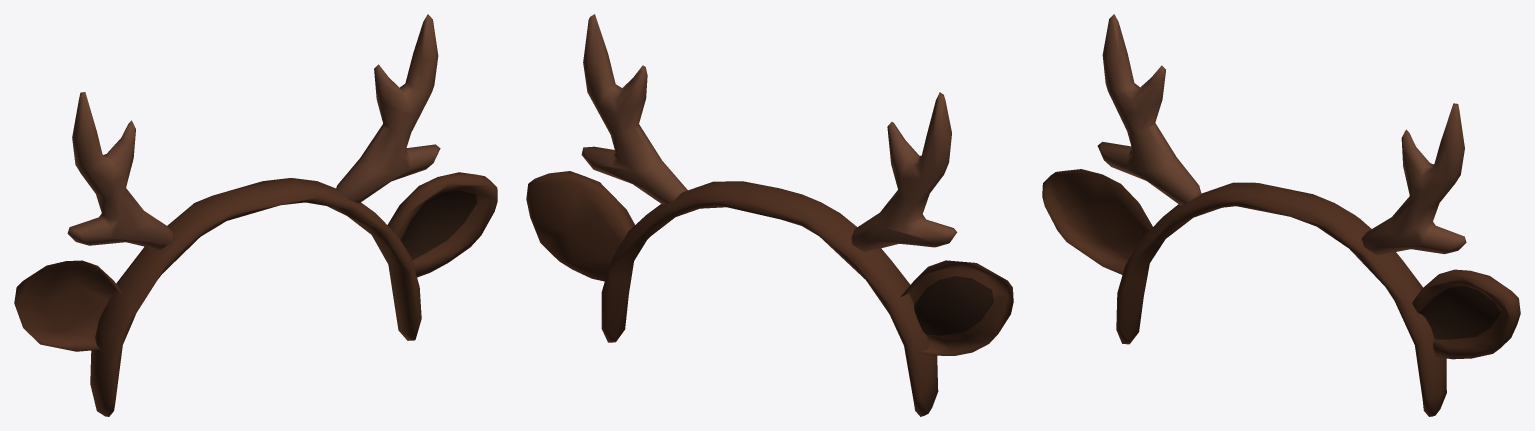
The picture shows the model from 3 angles, left to right: view 1: azimuth 30°, elevation 25°; view 2: azimuth 150°, elevation 25°; view 3: azimuth 330°, elevation 25°; orthographic projection.
Visible parts, largest first — view 1: hatDeerEars; view 2: hatDeerEars; view 3: hatDeerEars.
Boxes of the visible parts, x1,y1,x2,y2 form: hatDeerEars: (14,14,497,416); hatDeerEars: (526,14,1013,416); hatDeerEars: (1042,14,1520,416).
Size of the model in its own units: 0.7987 by 0.521 by 0.0747.
Materials: 1 (1 with a texture image).
